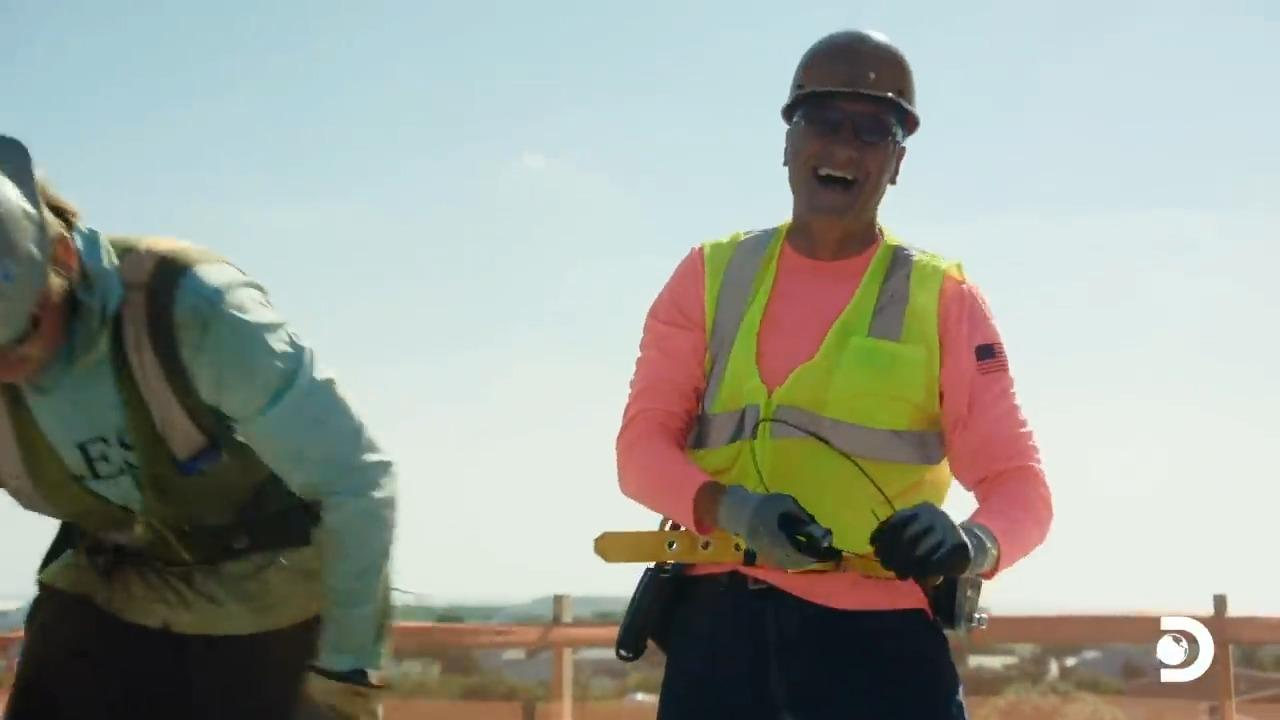Gloves: (721, 484, 829, 577), (868, 496, 965, 575)
Helmet: (781, 28, 920, 136)
Person: (595, 28, 1036, 720), (0, 132, 397, 719)
Safety Vest: (696, 260, 955, 591), (23, 346, 287, 637)
